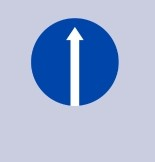Go_straight: (30, 17, 121, 108)
